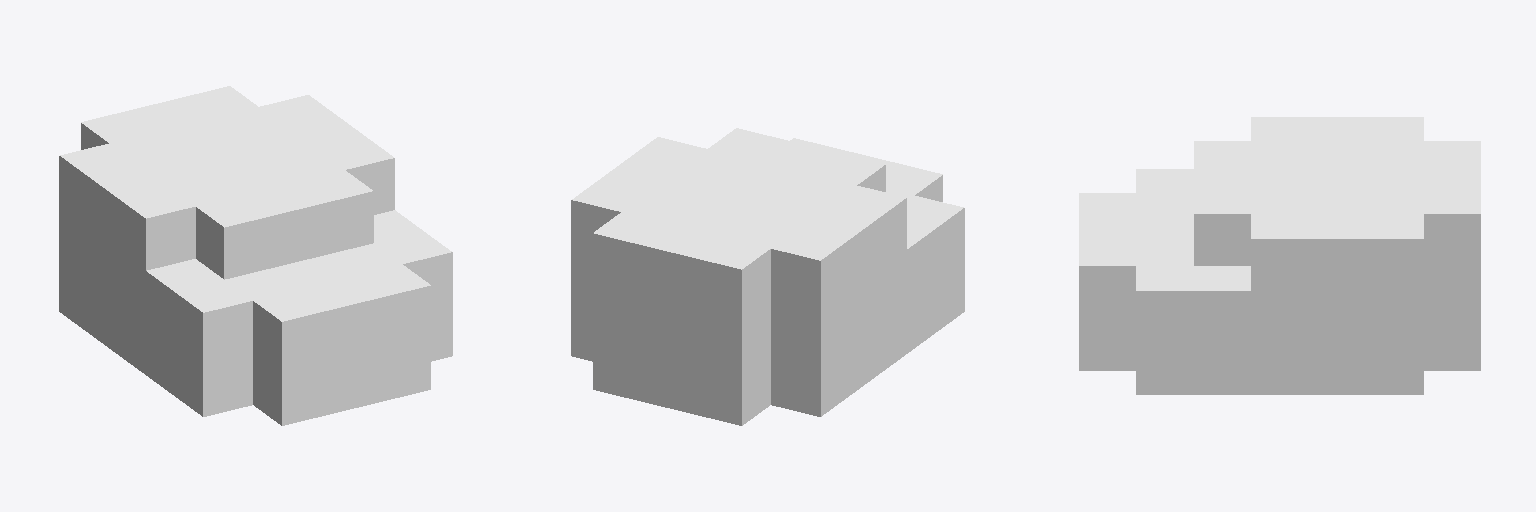
The model's file is Cubeworld_2-119-Char1_Foot_R.obj.
3 renders of one model, left to right at view 1: azimuth 30°, elevation 25°; view 2: azimuth 150°, elevation 25°; view 3: azimuth 270°, elevation 25°, orthographic.
Visible parts, largest first — view 1: Char1_Foot_R; view 2: Char1_Foot_R; view 3: Char1_Foot_R.
Part boxes in pixels (left/top/right/bottom): Char1_Foot_R: left=59, top=86, right=452, bottom=425; Char1_Foot_R: left=571, top=128, right=964, bottom=425; Char1_Foot_R: left=1079, top=117, right=1480, bottom=394.
Bounding box in the file's own units: 0.5 × 0.3 × 0.7.